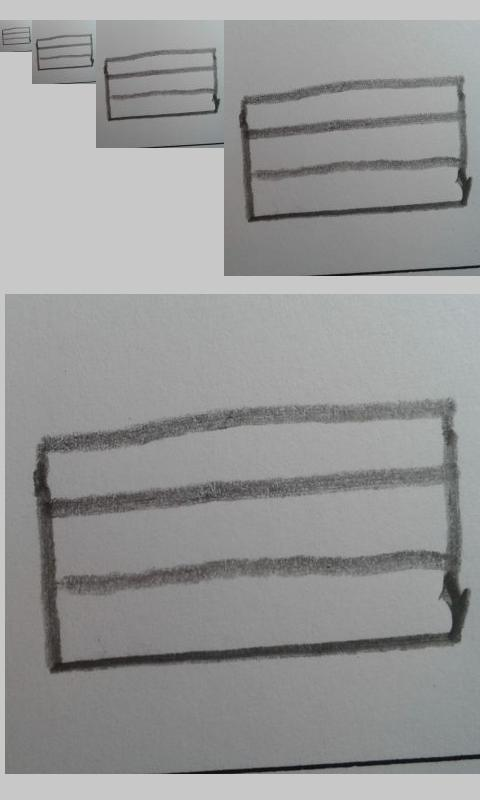list_view: (34, 401, 468, 676), (240, 77, 467, 222), (104, 48, 218, 122), (36, 34, 94, 71), (1, 26, 31, 46)
